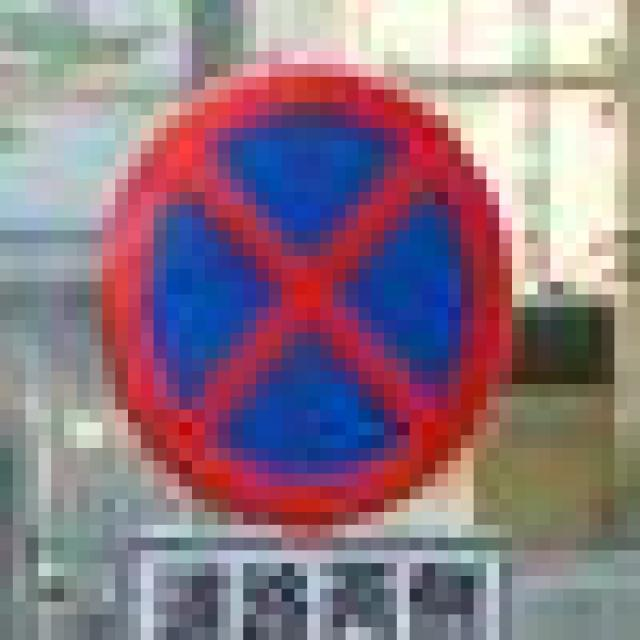no stopping or standing: (105, 61, 514, 523)
